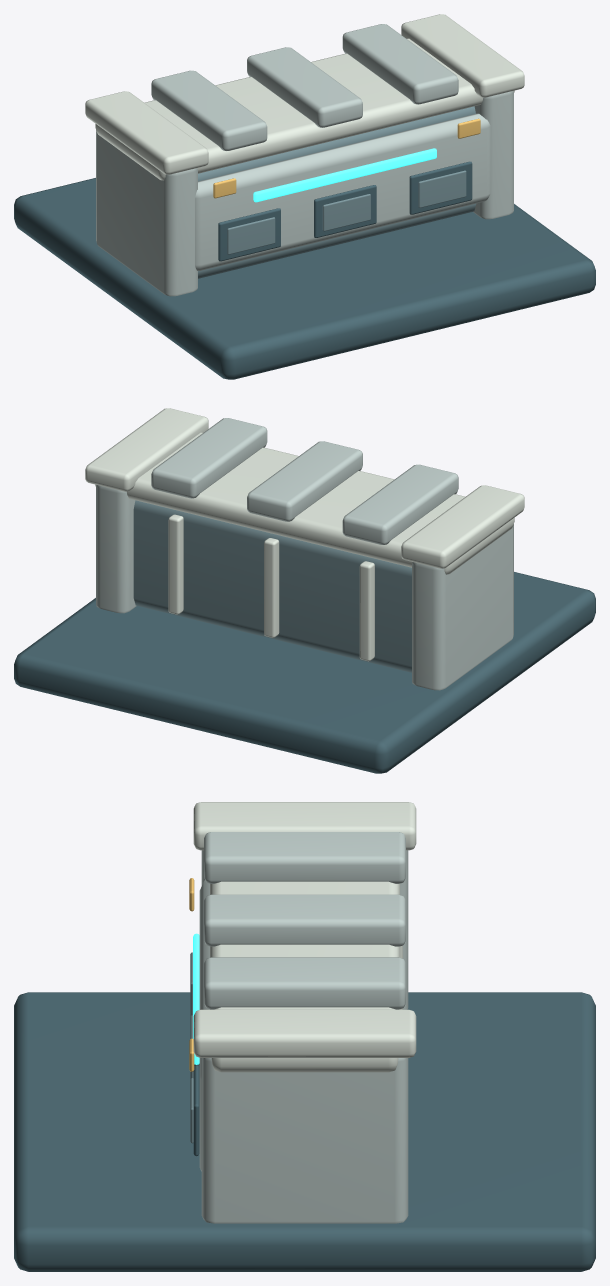
The model's file is modular-wall.glb.
The picture shows the model from 3 angles, top to bottom: view 1: azimuth 30°, elevation 25°; view 2: azimuth 150°, elevation 25°; view 3: azimuth 270°, elevation 25°; orthographic projection. The views are drawn at different scales.
Parts seen in each view (by area): view 1: Wall foundation shoe, Blast face armor, Upper parapet rail, Reinforced wall core, Continuous team signal, Warning chevron; view 2: Wall foundation shoe, Blast face armor, Upper parapet rail, Reinforced wall core; view 3: Wall foundation shoe, Blast face armor, Upper parapet rail, Continuous team signal.
Part boxes in pixels (box(x1,y1,x2,y2)): Wall foundation shoe: box(14, 161, 595, 379); Blast face armor: box(96, 24, 513, 296); Upper parapet rail: box(85, 14, 524, 180); Reinforced wall core: box(198, 106, 476, 278); Continuous team signal: box(253, 148, 436, 202); Warning chevron: box(213, 118, 480, 198); Wall foundation shoe: box(14, 572, 595, 773); Blast face armor: box(96, 418, 513, 690); Upper parapet rail: box(85, 408, 524, 661); Reinforced wall core: box(133, 500, 411, 672); Wall foundation shoe: box(14, 992, 595, 1271); Blast face armor: box(199, 832, 408, 1223); Upper parapet rail: box(193, 802, 416, 1072); Continuous team signal: box(193, 933, 199, 1064).
Bounding box in the file's own units: 2.82 × 1.32 × 2.82.
